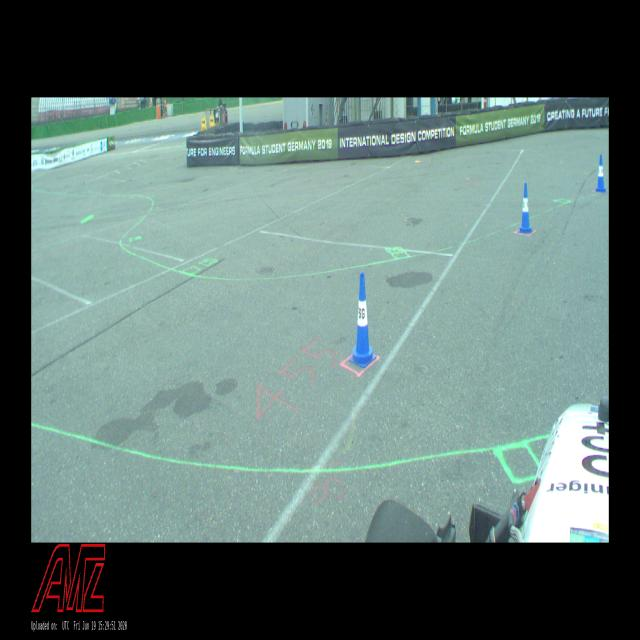blue_cone: (349, 272, 376, 368), (519, 183, 532, 233), (596, 154, 606, 192)
